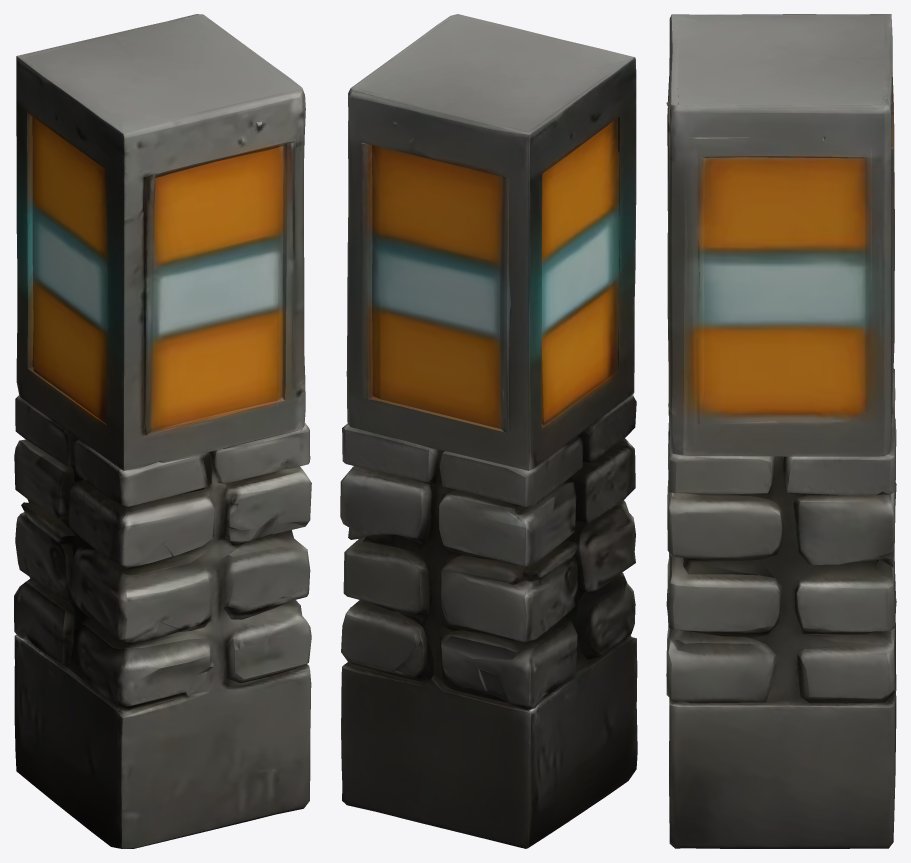
The model's file is m2ScoreMarkerPost.glb.
The picture shows the model from 3 angles, left to right: view 1: azimuth 30°, elevation 25°; view 2: azimuth 150°, elevation 25°; view 3: azimuth 270°, elevation 25°; orthographic projection. The views are drawn at different scales.
Parts seen in each view (by area): view 1: model; view 2: model; view 3: model.
Boxes of the visible parts, x1=… form: model: x1=14, y1=14, x2=311, y2=848; model: x1=340, y1=14, x2=637, y2=848; model: x1=666, y1=14, x2=896, y2=848.
Size of the model in its own units: 0.5333 by 1.9 by 0.5332.
1 material, 1 textured.
